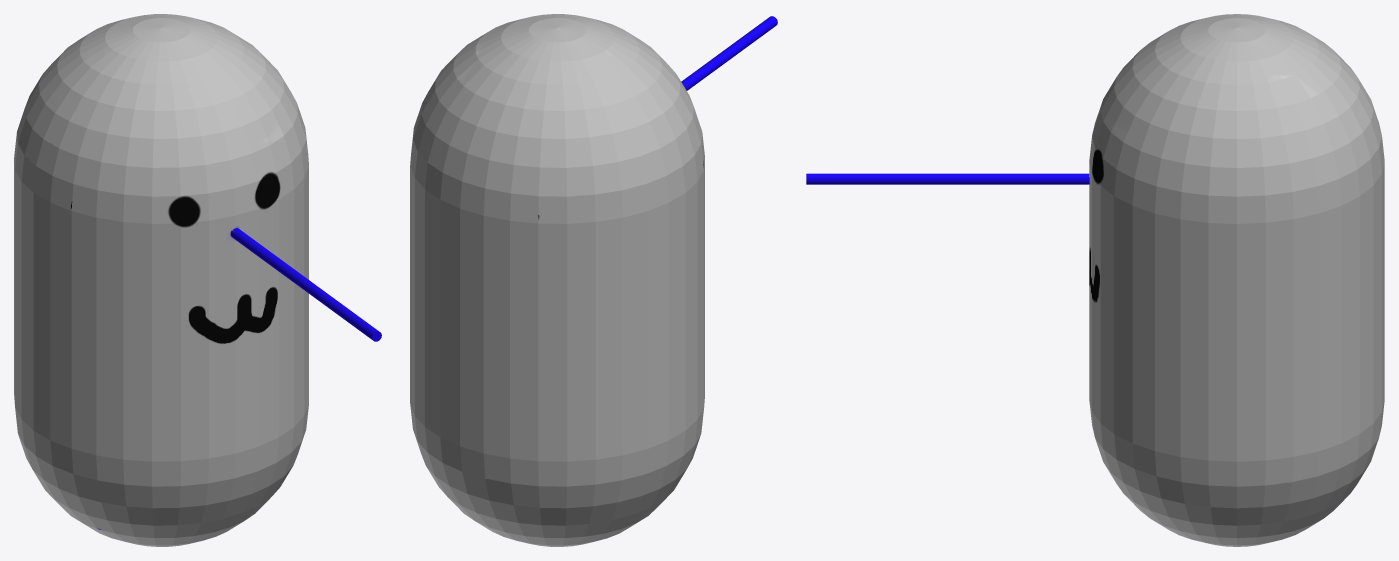
File: player.obj
3 views of the same model, side by side, from view 1: azimuth 30°, elevation 25°; view 2: azimuth 150°, elevation 25°; view 3: azimuth 270°, elevation 25° (orthographic).
Parts seen in each view (by area): view 1: Sphere; view 2: Sphere; view 3: Sphere.
Boxes of the visible parts, x1,y1,x2,y2 form: Sphere: [14, 14, 381, 546]; Sphere: [410, 14, 777, 546]; Sphere: [806, 14, 1384, 546].
Bounding box in the file's own units: 2 × 3.77 × 3.92.
1 material, 1 textured.
